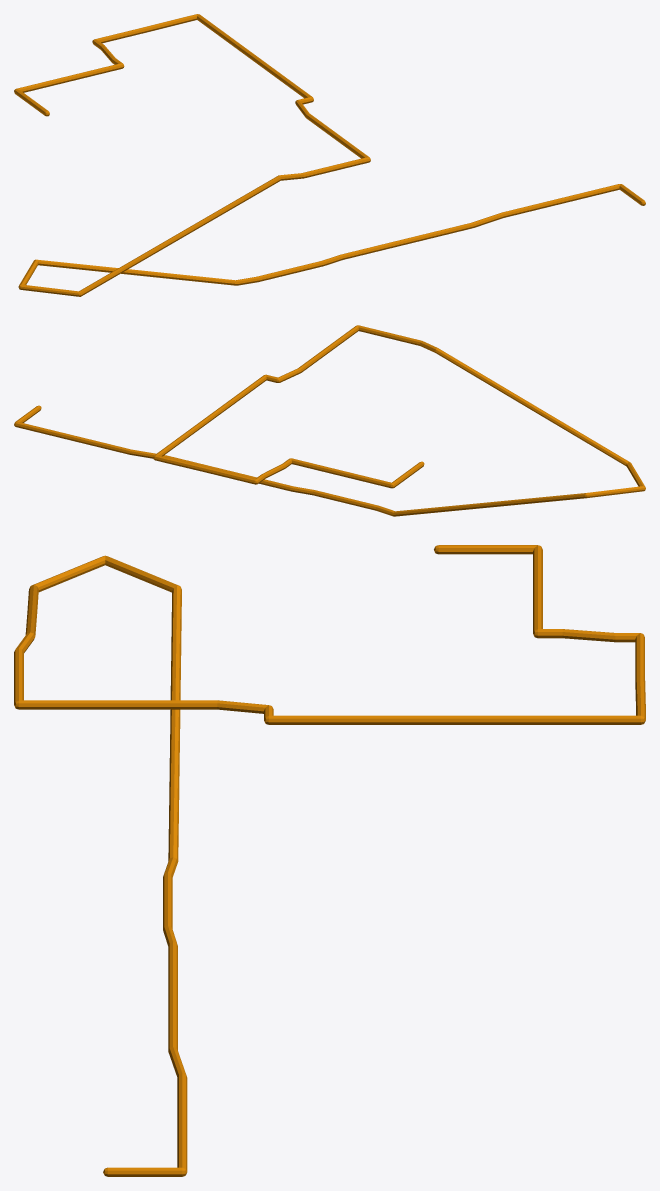
The picture shows the model from 3 angles, top to bottom: view 1: azimuth 30°, elevation 25°; view 2: azimuth 150°, elevation 25°; view 3: azimuth 270°, elevation 25°; orthographic projection. The views are drawn at different scales.
Size of the model in its own units: 2402 by 520 by 1274.
